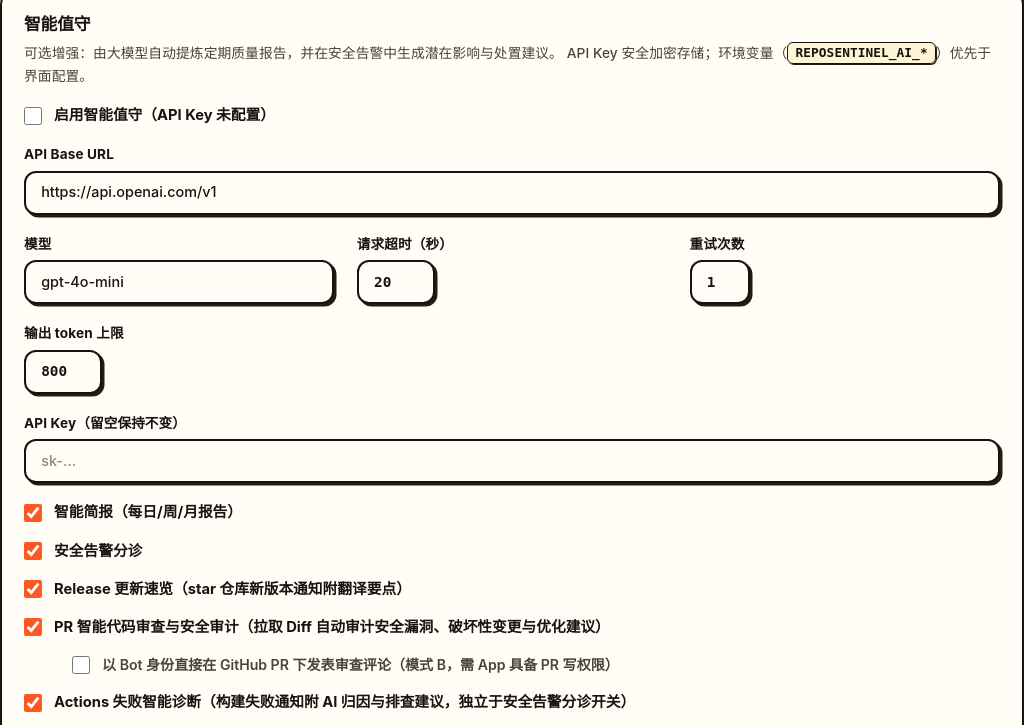
Test: 设置页 › 输出 token 上限可逐位输入多位数（不再被钳到 100）并随保存提交
(page scrolled)
// 逐位输入 2000：旧实现键入首位数即被钳到 100，无法继续输入。
Replace the text in the number field labelled "输出 token 上限" with "2". click: (63, 372)
box: [24,350,102,394]
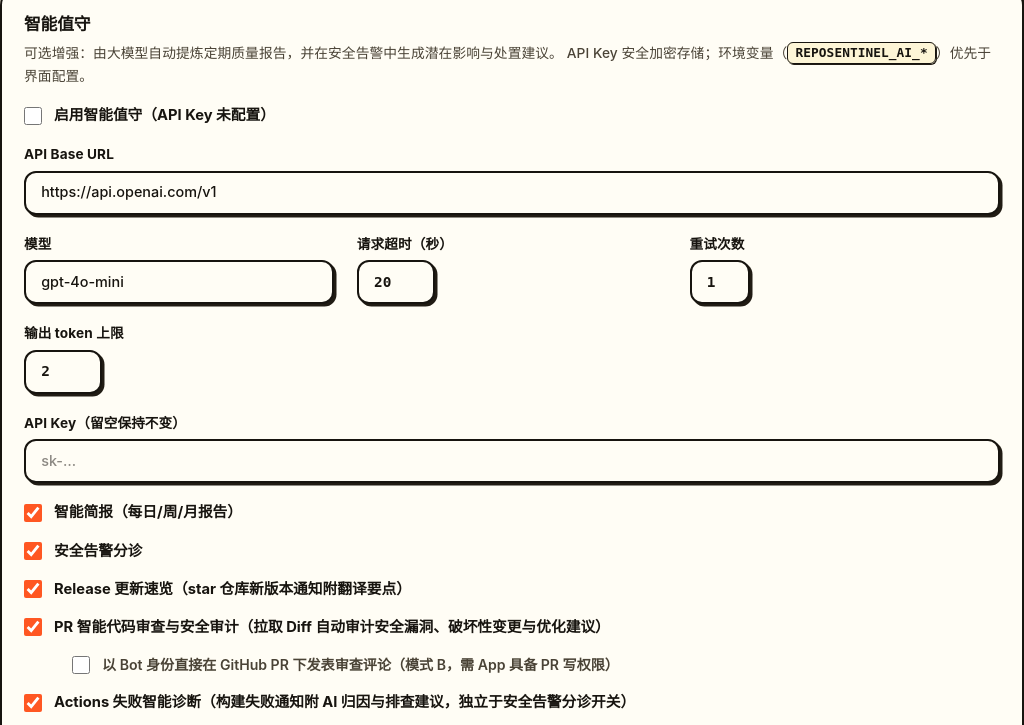
Replace the text in the number field labelled "输出 token 上限" with "2000". click: (63, 372)
box: [24,350,102,394]
(page scrolled)
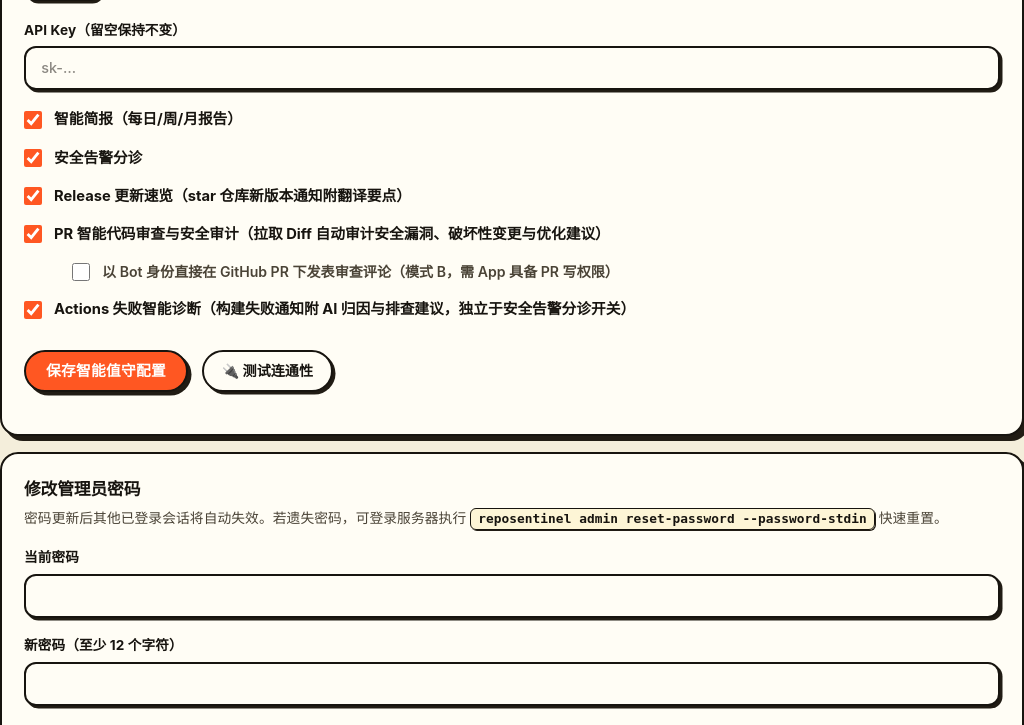
Click the button "保存智能值守配置". click: (106, 371)
box: [24,350,188,392]
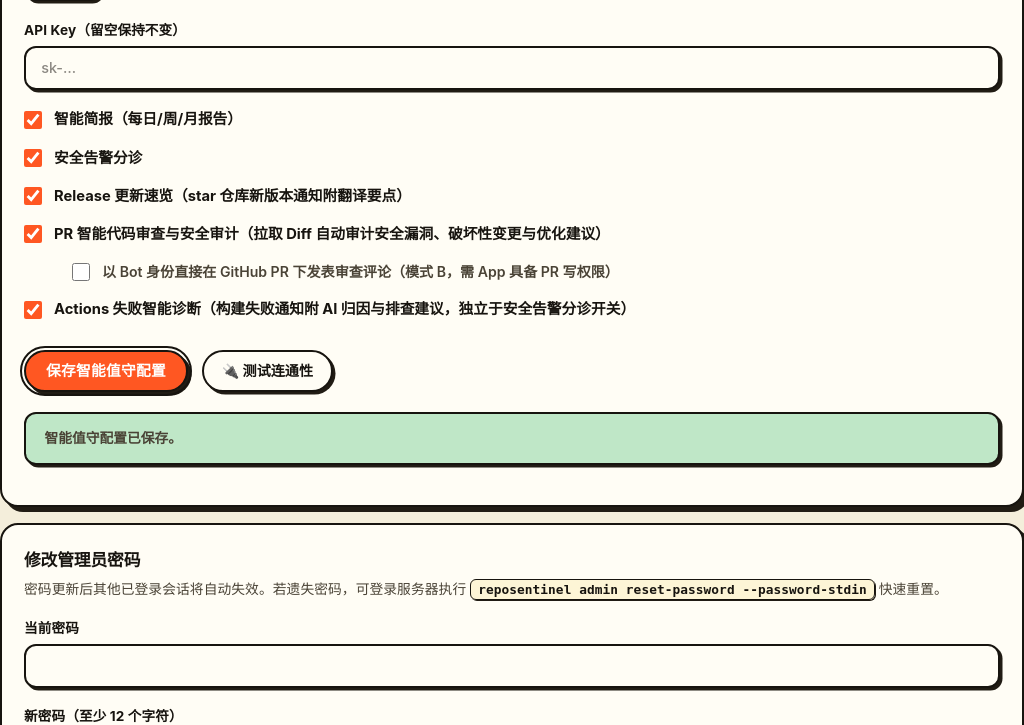
Expected: the text "智能值守配置已保存。" is shown, [24,412,1000,465]
